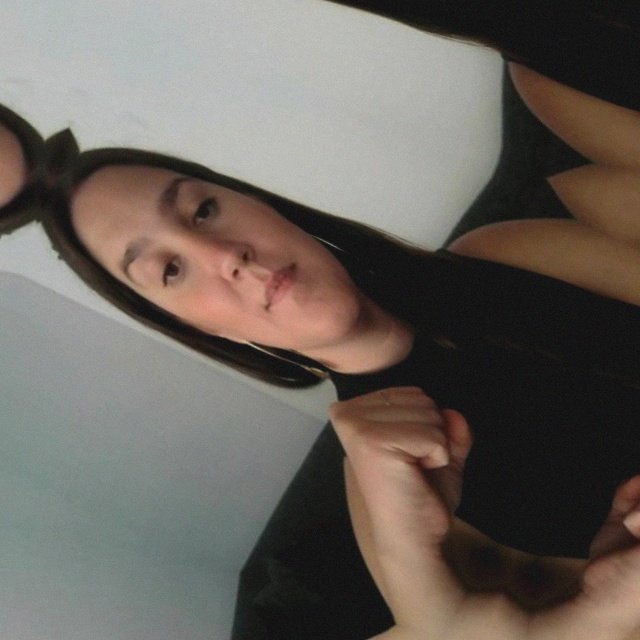Rock: (276, 329, 531, 558)
